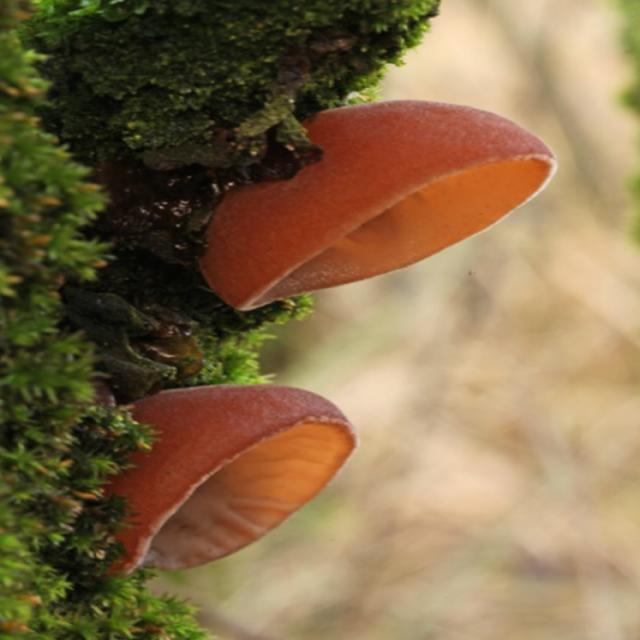Auricularia auricula: (201, 102, 557, 312), (105, 387, 357, 575)
